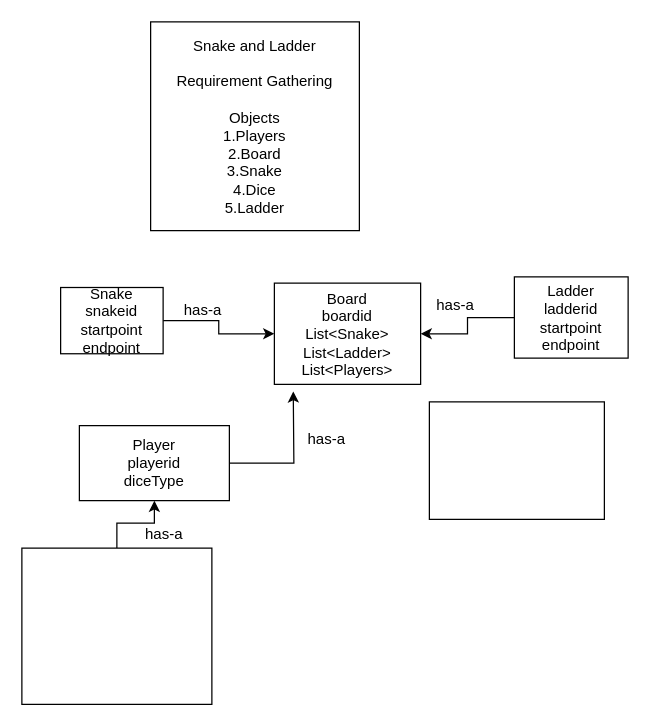
Some shapes in this 650 by 726 pixel diagram are drawn without their labels. Here are the shapes that lost their labels. From the top down, the centre of each, then its label:
At point 516,460: "GameManagement updatePlayerInBoard Dice".
At point 116,625: "Dice(ENUM) one two three four fivr six".
